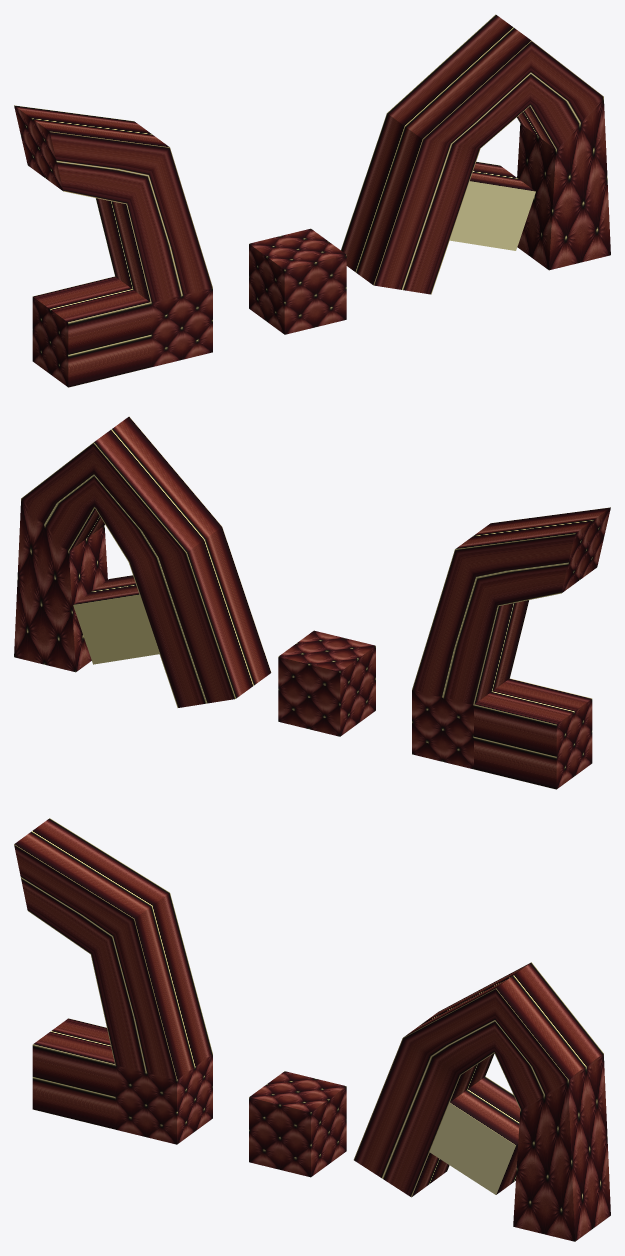
Rendered from ItsAlbin.fbx.
3 renders of one model, top to bottom at view 1: azimuth 30°, elevation 25°; view 2: azimuth 150°, elevation 25°; view 3: azimuth 330°, elevation 25°, orthographic.
Visible parts, largest first — view 1: pCube4; view 2: pCube4; view 3: pCube4.
Boxes of the visible parts, x1,y1,x2,y2 form: pCube4: (14, 14, 610, 387); pCube4: (14, 416, 610, 789); pCube4: (14, 818, 610, 1241).
Bounding box in the file's own units: 9.05 × 4.06 × 1.22.
Materials: 1 (1 with a texture image).
